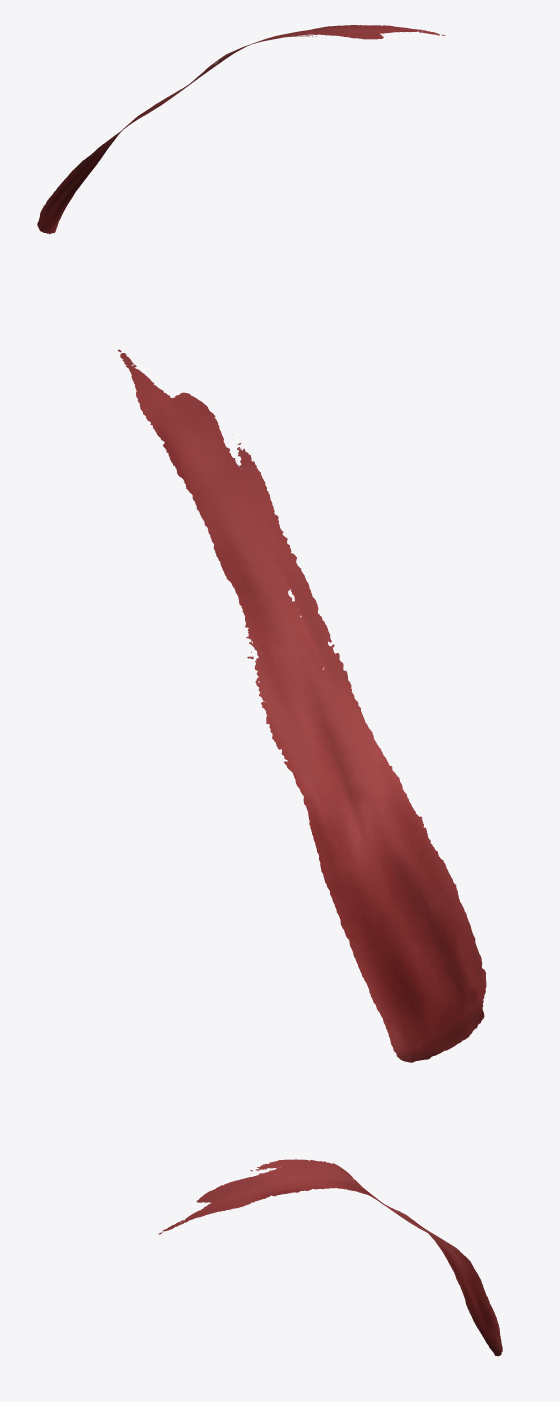
The model's file is Cintura1 1.fbx.
The picture shows the model from 3 angles, top to bottom: view 1: azimuth 30°, elevation 25°; view 2: azimuth 150°, elevation 25°; view 3: azimuth 270°, elevation 25°; orthographic projection. The views are drawn at different scales.
Visible parts, largest first — view 1: Segno_Cintura; view 2: Segno_Cintura; view 3: Segno_Cintura.
Boxes of the visible parts, <box> form: Segno_Cintura: <box>37,25,445,234</box>; Segno_Cintura: <box>118,349,486,1062</box>; Segno_Cintura: <box>158,1159,502,1356</box>.
Bounding box in the file's own units: 31.08 × 17.92 × 26.14.
Materials: 1 (1 with a texture image).
